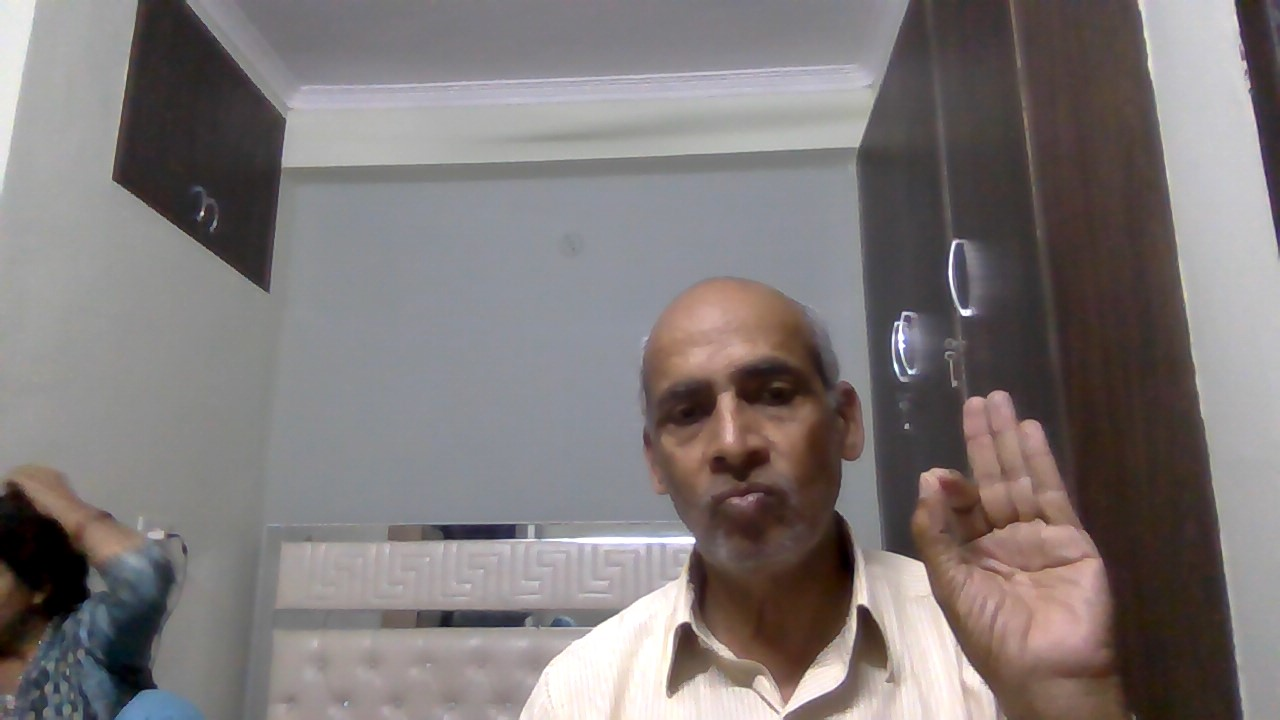Copy: (887, 385, 1163, 697)
